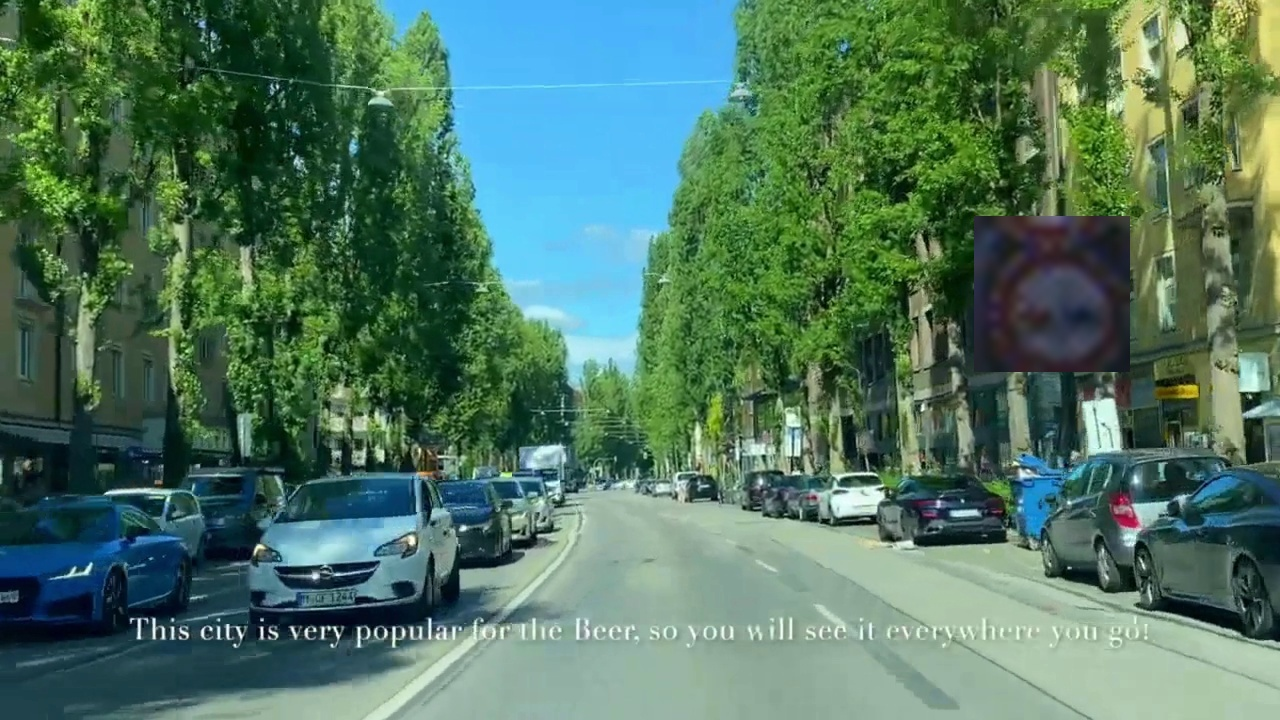No passing: (974, 216, 1130, 372)
